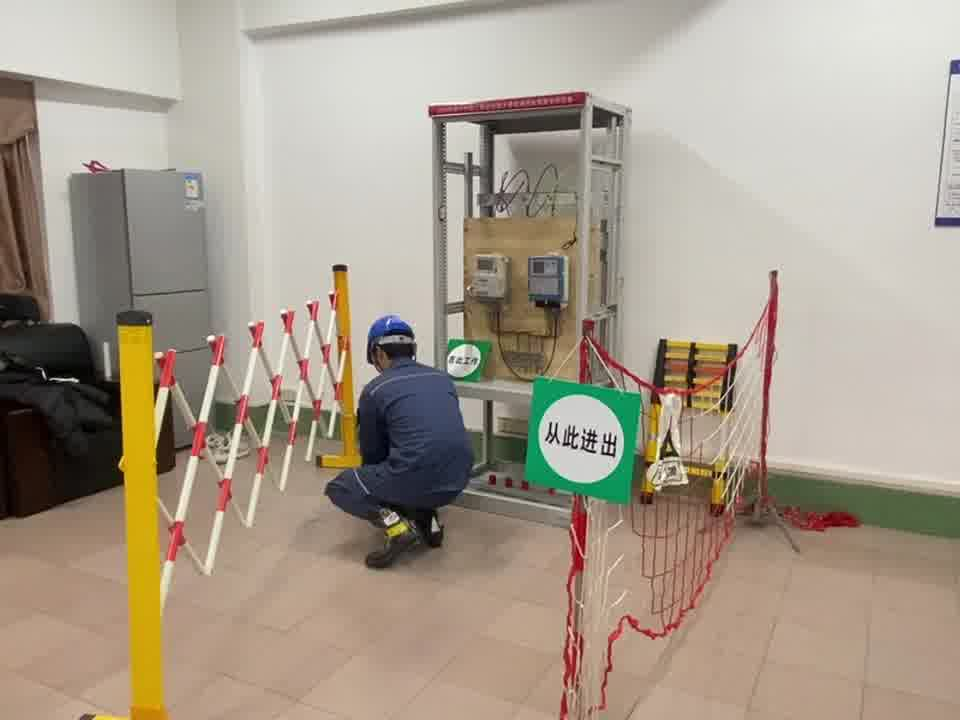halt: (367, 318, 420, 372)
